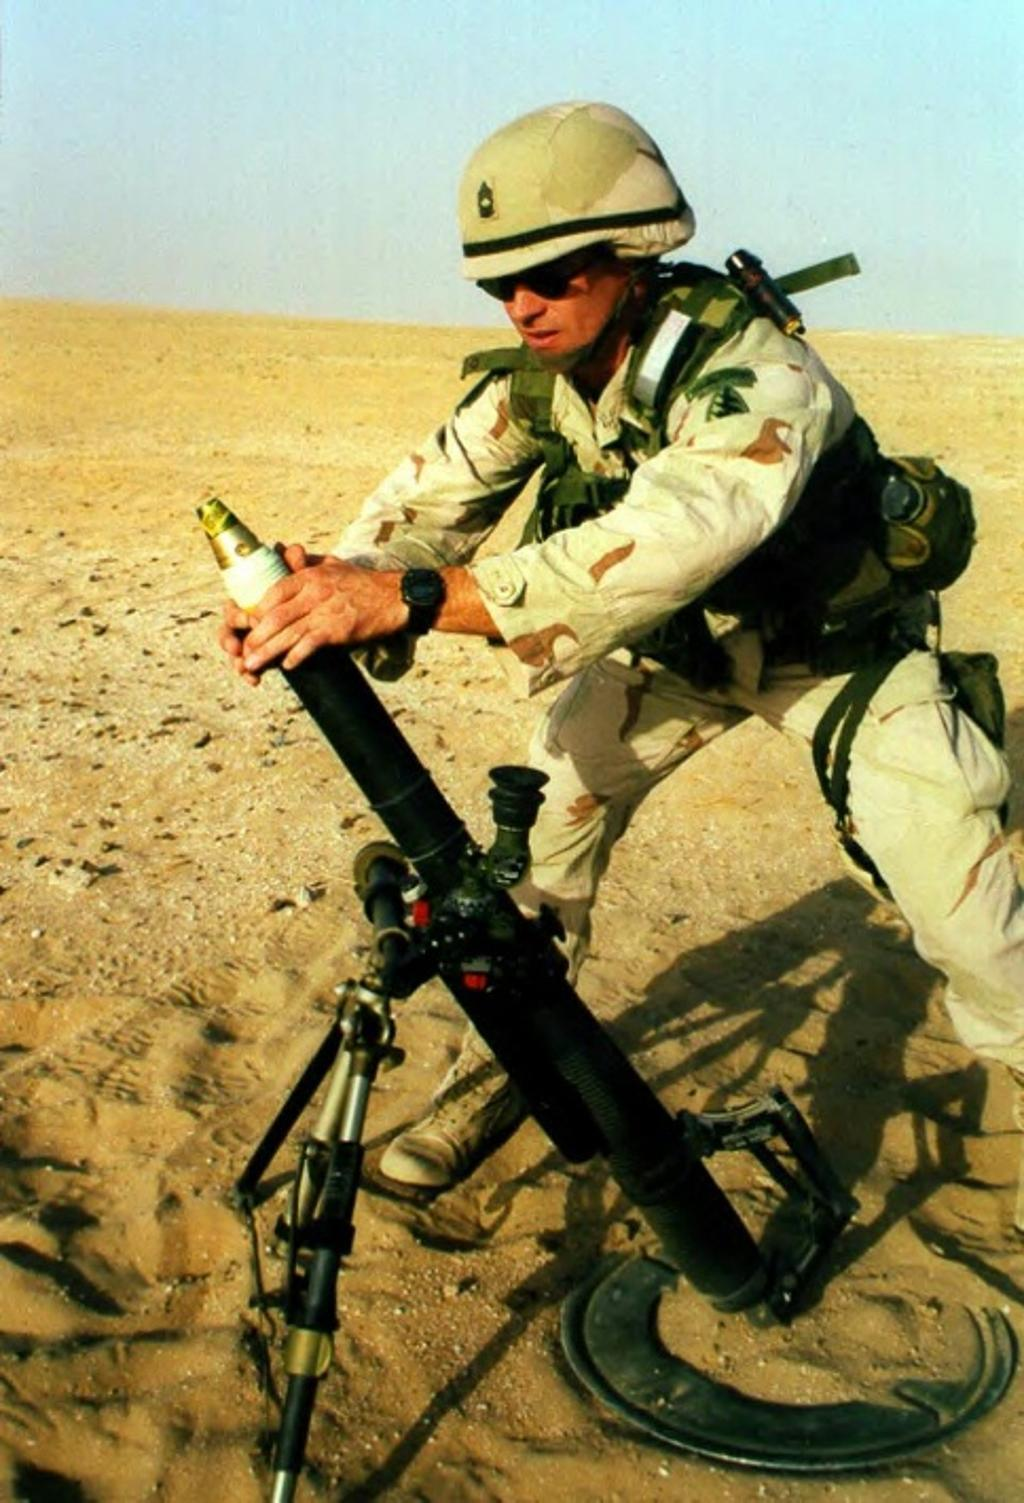face: (485, 201, 596, 362)
